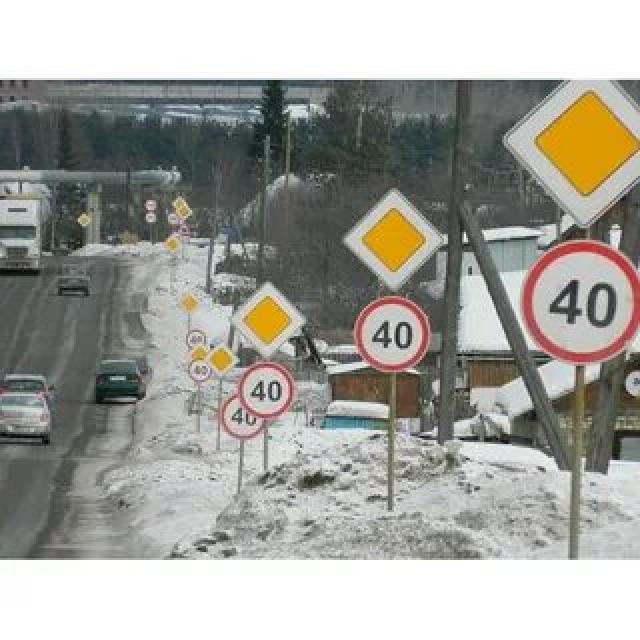signs: (503, 81, 640, 229), (343, 187, 443, 290), (229, 281, 305, 358), (205, 341, 240, 379), (188, 340, 212, 366), (178, 292, 200, 314), (163, 236, 183, 253), (171, 196, 188, 212), (76, 213, 92, 228), (178, 203, 192, 220)
